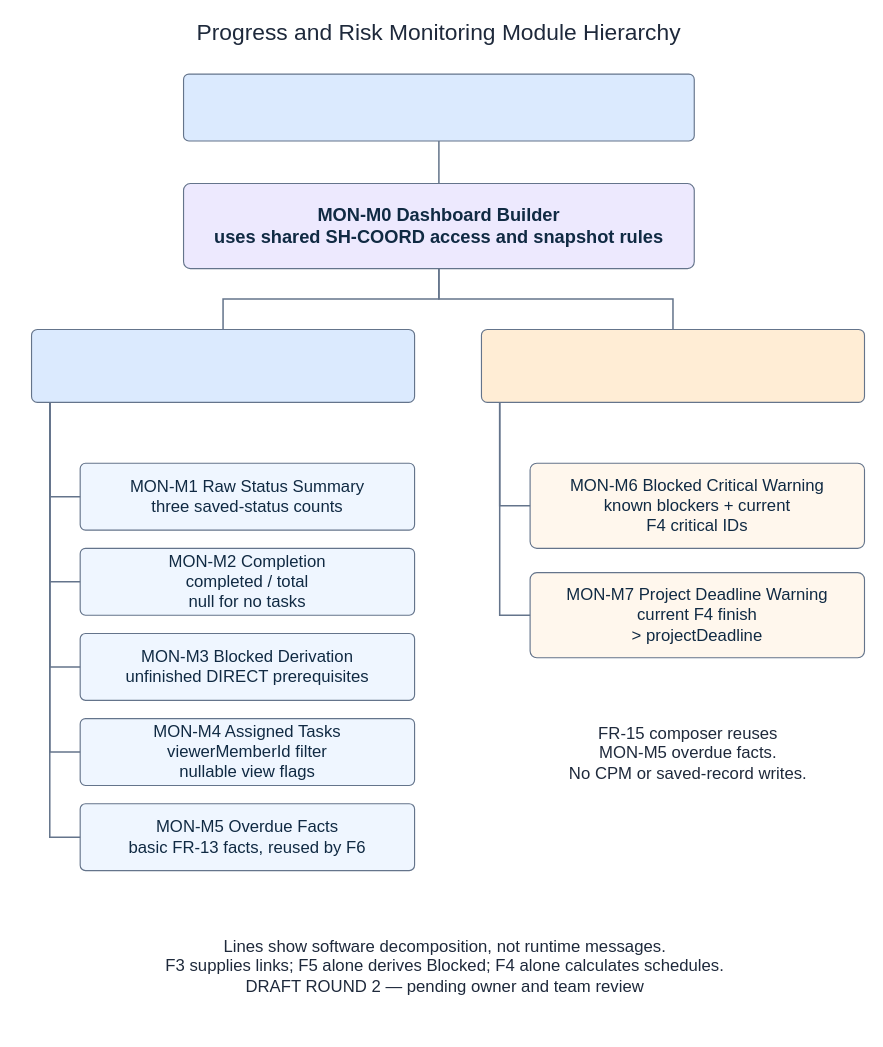
This 883x1047 diagram has some shape labels left out. Each missing label, with the centre of its shape:
"F5 Progress Tracking Must Have basic dashboard" goes at point 223,366.
"F6 Schedule Risk Monitoring Could Have warning layer" goes at point 673,366.
"Progress and Risk Monitoring Subsystem" goes at point 438,107.
